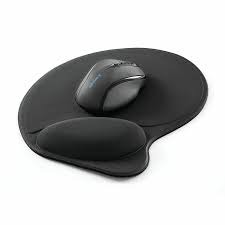mouse: (74, 56, 150, 117)
